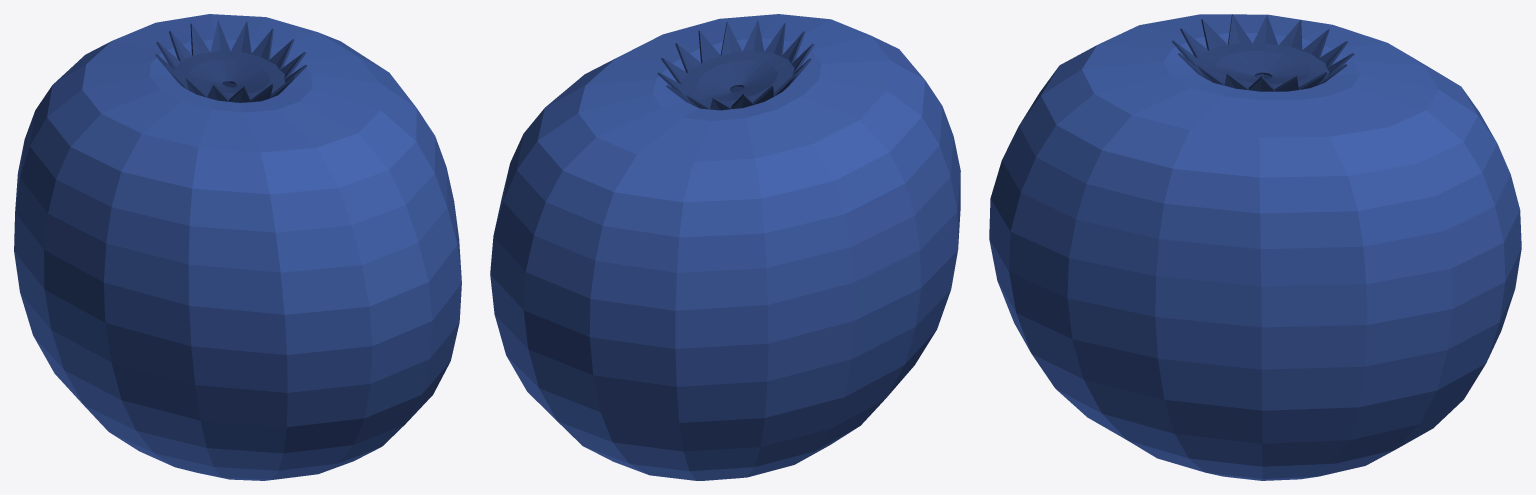
The model's file is Good_4.fbx.
3 renders of one model, left to right at view 1: azimuth 30°, elevation 25°; view 2: azimuth 150°, elevation 25°; view 3: azimuth 270°, elevation 25°, orthographic. The views are drawn at different scales.
Visible parts, largest first — view 1: BerryGood.004; view 2: BerryGood.004; view 3: BerryGood.004.
Boxes of the visible parts, x1,y1,x2,y2 form: BerryGood.004: (14,14,461,480); BerryGood.004: (490,14,960,480); BerryGood.004: (989,14,1521,480).
Bounding box in the file's own units: 190 × 195 × 231.
